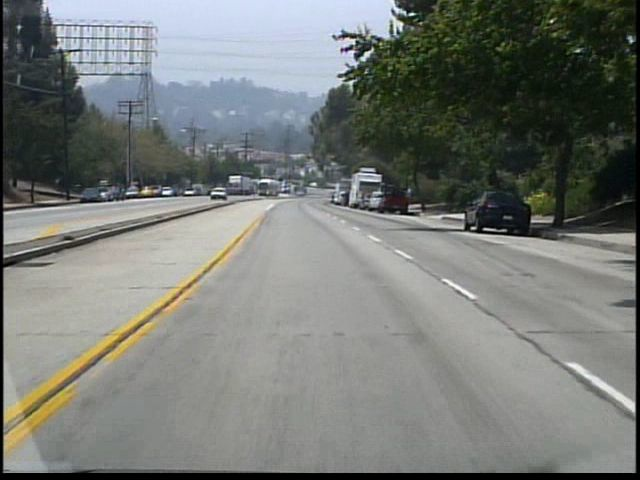person: (401, 183, 412, 209)
